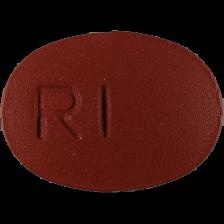61786-258: (0, 0, 224, 224)
